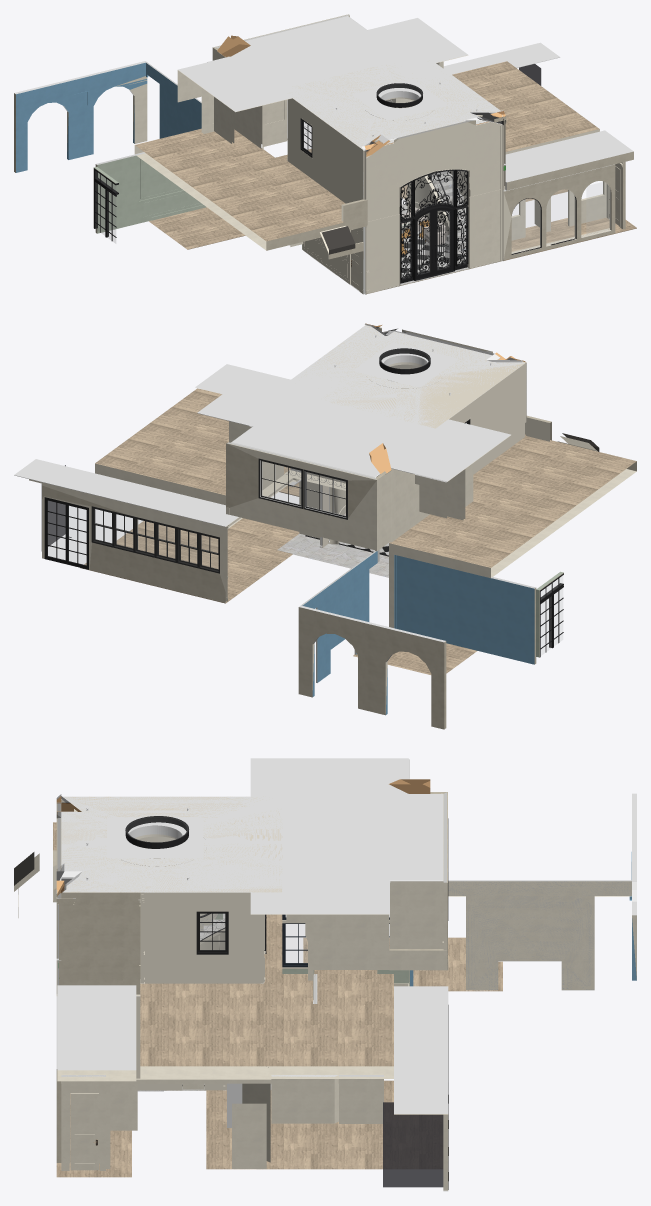
The model's file is entry-e55848bb3967.glb.
3 views of the same model, one above another, from view 1: azimuth 30°, elevation 25°; view 2: azimuth 150°, elevation 25°; view 3: azimuth 270°, elevation 25° (orthographic). The views are drawn at different scales.
Parts seen in each view (by area): view 1: entry-look-2575515a05775d9e, entry-look-9d91b47435c6fb33, entry-9d91b47435c6fb33, entry-4edf3a9420c06709, entry-look-969b861f9850351e, entry-look-b19b106fc304963c, entry-746250f96522f643, entry-look-dbd60ee5c3733ed6, entry-9ca48b730e5de4b2, entry-look-c9e78b9ec1bb39cd, entry-969fb0f33943ba89, entry-785988ccf932ddd5 (+35 smaller); view 2: entry-look-2575515a05775d9e, entry-look-9d91b47435c6fb33, entry-look-b19b106fc304963c, entry-9d91b47435c6fb33, entry-look-969b861f9850351e, entry-look-245f595ae2832e16, entry-look-3b0077416469e01b, entry-look-bfb9fa537cd11d1d, entry-e8793759323e04f0, entry-look-9a0e9ee9b2a451d7, entry-746250f96522f643, entry-look-3e6709f91b43c3bf (+18 smaller); view 3: entry-look-2575515a05775d9e, entry-look-9d91b47435c6fb33, entry-9d91b47435c6fb33, entry-look-3e6709f91b43c3bf, entry-look-3b0077416469e01b, entry-c51ecd664a3b22a3, entry-look-dbd60ee5c3733ed6, entry-look-9a0e9ee9b2a451d7, entry-62353aa10fc57f23, entry-e8793759323e04f0, entry-look-cbd4bf73d9724a66, entry-look-55ff1dfd7b659ec1 (+23 smaller).
Boxes of the visible parts, left/top/right/bottom form: entry-look-2575515a05775d9e: left=134, top=61, right=599, bottom=250; entry-look-9d91b47435c6fb33: left=178, top=16, right=468, bottom=112; entry-9d91b47435c6fb33: left=281, top=54, right=500, bottom=149; entry-4edf3a9420c06709: left=365, top=120, right=503, bottom=221; entry-look-969b861f9850351e: left=14, top=61, right=147, bottom=172; entry-look-b19b106fc304963c: left=95, top=152, right=202, bottom=233; entry-746250f96522f643: left=287, top=98, right=361, bottom=203; entry-look-dbd60ee5c3733ed6: left=505, top=130, right=633, bottom=190; entry-9ca48b730e5de4b2: left=365, top=189, right=503, bottom=293; entry-look-c9e78b9ec1bb39cd: left=503, top=164, right=615, bottom=260; entry-969fb0f33943ba89: left=365, top=189, right=503, bottom=293; entry-785988ccf932ddd5: left=366, top=118, right=503, bottom=220; entry-look-2575515a05775d9e: left=95, top=388, right=636, bottom=578; entry-look-9d91b47435c6fb33: left=197, top=371, right=510, bottom=481; entry-look-b19b106fc304963c: left=397, top=555, right=536, bottom=664; entry-9d91b47435c6fb33: left=277, top=325, right=525, bottom=427; entry-look-969b861f9850351e: left=298, top=605, right=446, bottom=729; entry-look-245f595ae2832e16: left=226, top=442, right=377, bottom=551; entry-look-3b0077416469e01b: left=80, top=518, right=476, bottom=674; entry-look-bfb9fa537cd11d1d: left=42, top=482, right=227, bottom=602; entry-e8793759323e04f0: left=301, top=326, right=525, bottom=428; entry-look-9a0e9ee9b2a451d7: left=14, top=459, right=238, bottom=526; entry-746250f96522f643: left=449, top=363, right=524, bottom=474; entry-look-3e6709f91b43c3bf: left=302, top=551, right=377, bottom=682; entry-look-2575515a05775d9e: left=53, top=822, right=393, bottom=1078; entry-look-9d91b47435c6fb33: left=250, top=758, right=442, bottom=914; entry-9d91b47435c6fb33: left=61, top=796, right=282, bottom=892; entry-look-3e6709f91b43c3bf: left=448, top=880, right=631, bottom=989; entry-look-3b0077416469e01b: left=206, top=937, right=502, bottom=1169; entry-c51ecd664a3b22a3: left=145, top=892, right=264, bottom=983; entry-look-dbd60ee5c3733ed6: left=57, top=985, right=136, bottom=1081; entry-look-9a0e9ee9b2a451d7: left=394, top=986, right=448, bottom=1114; entry-62353aa10fc57f23: left=61, top=892, right=140, bottom=994; entry-e8793759323e04f0: left=58, top=794, right=282, bottom=892; entry-look-cbd4bf73d9724a66: left=383, top=1102, right=443, bottom=1187; entry-look-55ff1dfd7b659ec1: left=448, top=880, right=631, bottom=990.
Bounding box in the file's own units: 21.07 × 7.01 × 18.
69 materials, 11 textured.
